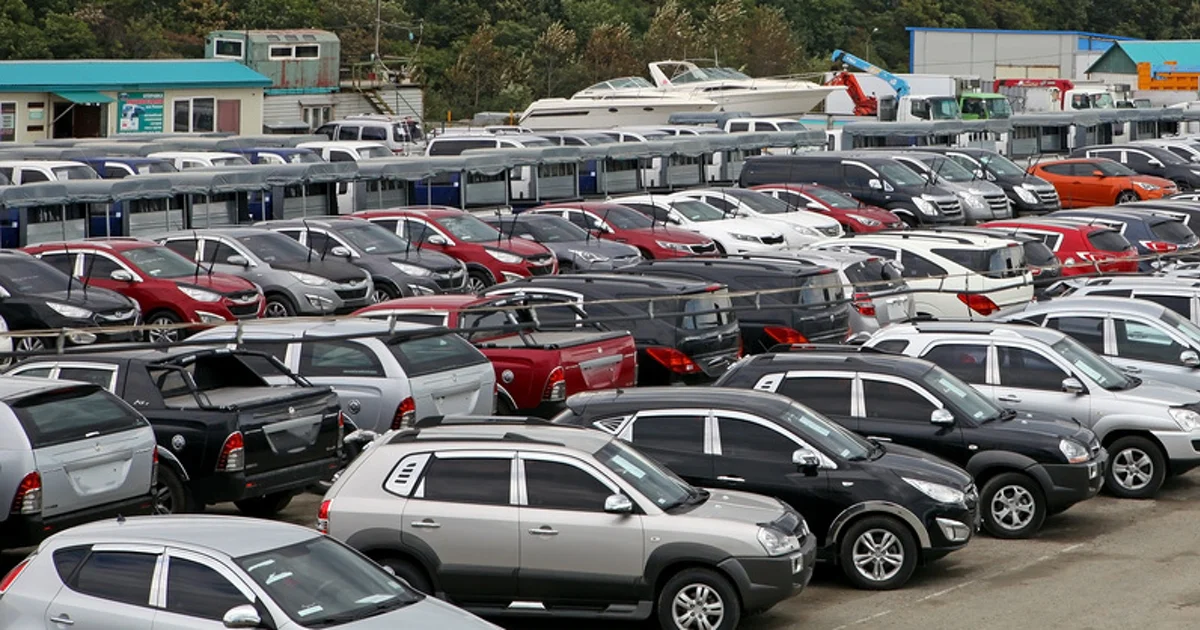Car: (317, 415, 816, 630), (553, 387, 979, 590), (715, 343, 1106, 539), (863, 316, 1200, 498), (0, 515, 502, 630), (6, 347, 345, 516), (188, 318, 497, 495), (353, 295, 638, 416), (480, 268, 743, 386), (0, 375, 157, 551), (21, 238, 267, 342), (636, 254, 852, 354), (804, 228, 1037, 320), (149, 227, 374, 317), (993, 296, 1200, 391), (254, 217, 470, 302), (352, 206, 561, 292), (738, 152, 965, 228), (0, 248, 145, 365), (853, 146, 1061, 216), (763, 250, 914, 342), (830, 150, 1013, 224), (528, 202, 719, 260), (610, 195, 789, 254), (676, 187, 845, 249), (1045, 208, 1200, 275), (481, 213, 646, 273), (976, 219, 1139, 278), (821, 71, 1015, 120), (833, 50, 962, 121), (937, 227, 1062, 300), (748, 183, 903, 235), (1028, 159, 1178, 208), (1049, 277, 1200, 325), (1070, 144, 1200, 191), (799, 72, 896, 130), (312, 112, 411, 158), (991, 77, 1117, 112), (1119, 200, 1200, 237), (425, 134, 559, 155), (0, 161, 101, 187), (67, 156, 179, 179), (292, 140, 395, 164), (1072, 80, 1152, 108), (146, 151, 252, 171), (218, 147, 330, 165), (1127, 139, 1200, 165), (668, 110, 752, 132), (725, 117, 811, 134), (539, 132, 620, 147), (624, 126, 727, 136), (595, 130, 673, 142), (0, 315, 13, 374), (1167, 189, 1200, 204), (484, 125, 535, 134), (1164, 135, 1200, 142)
